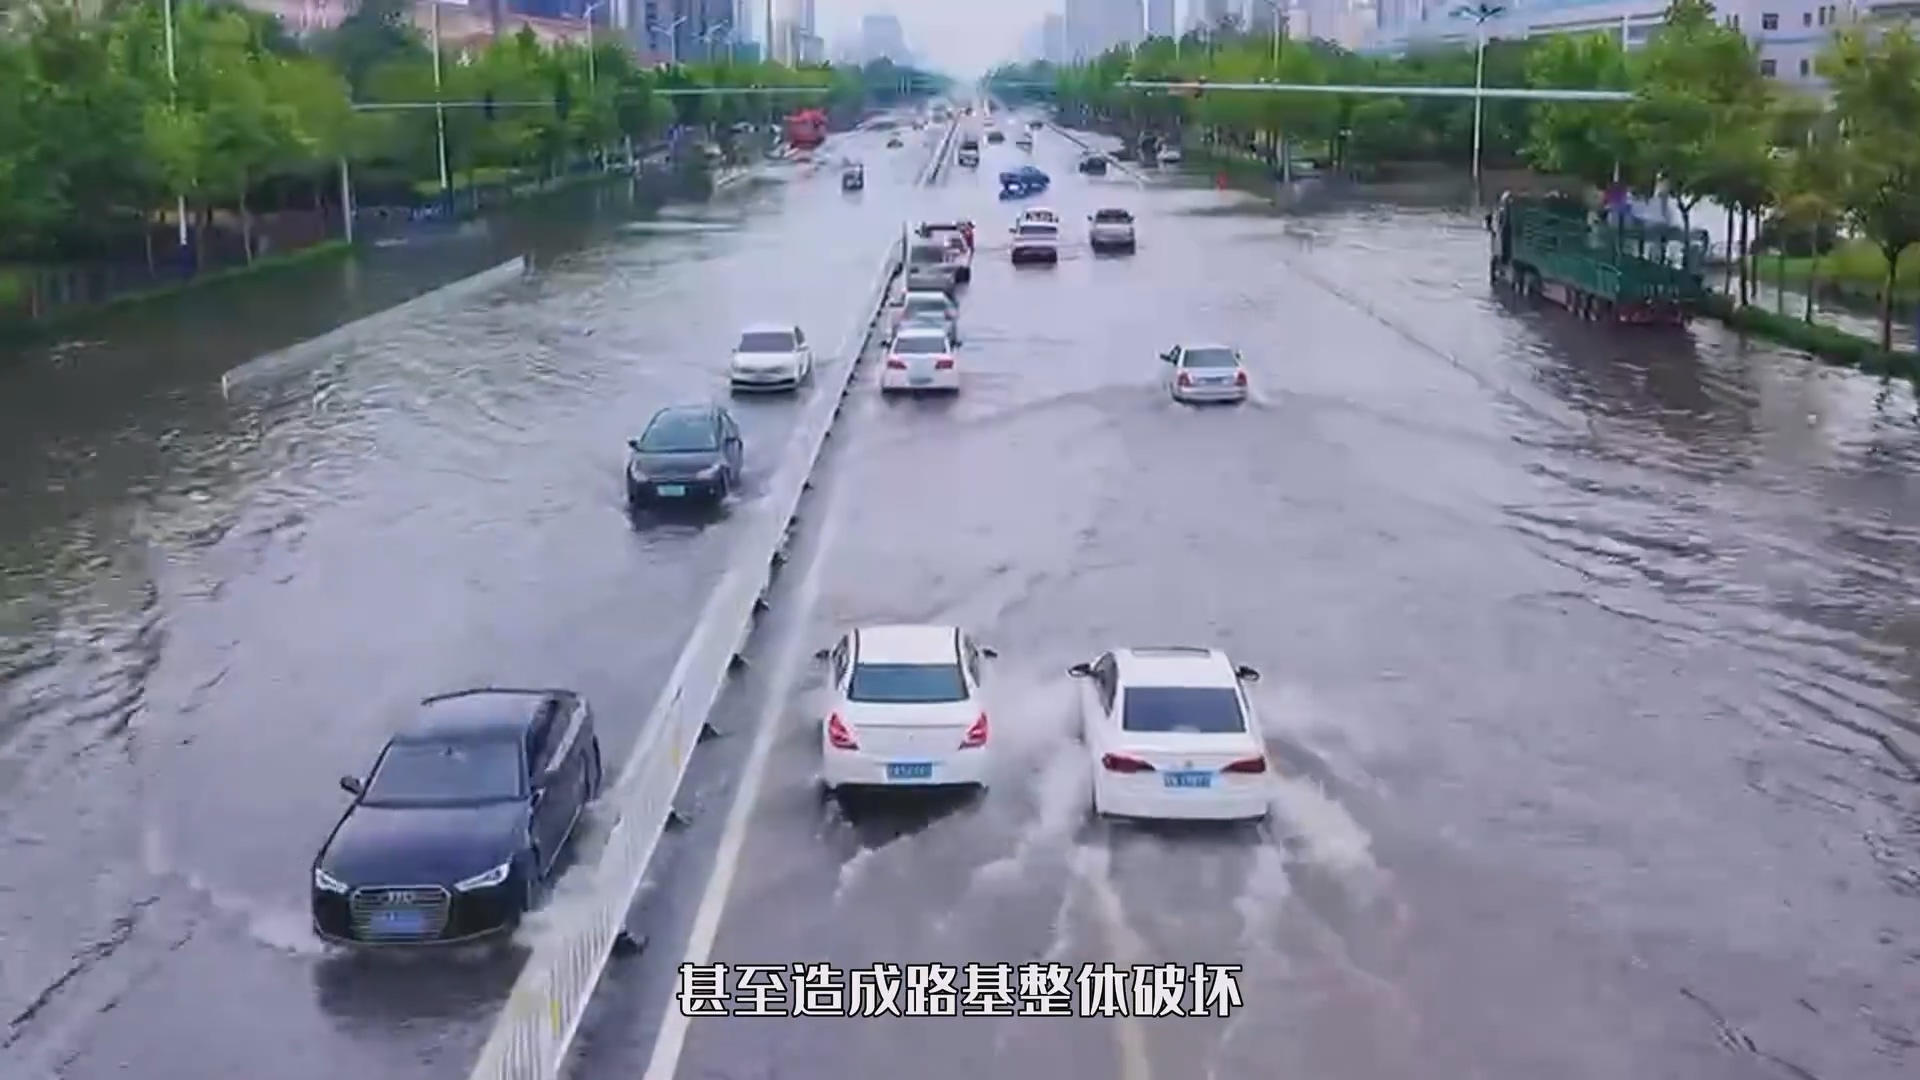puddle: (1, 282, 1920, 1080)
